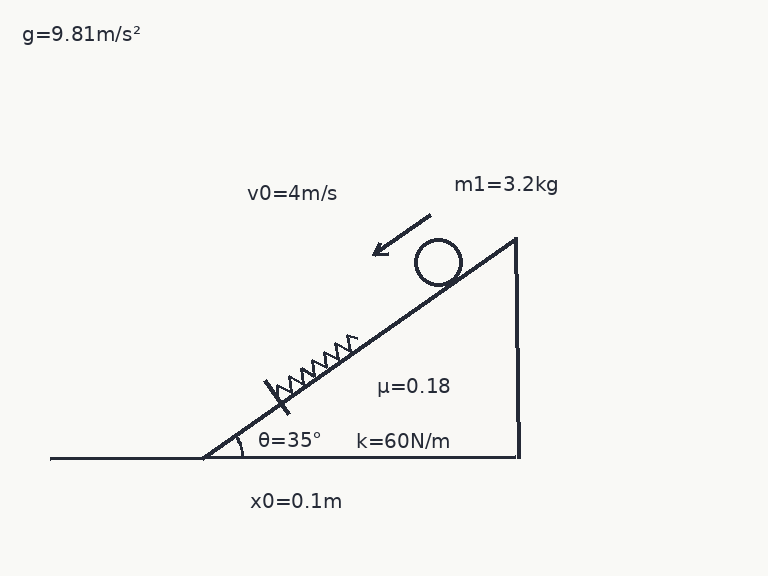ball: (412, 236, 464, 288)
ramp: (200, 235, 519, 459)
spring: (273, 334, 359, 397)
